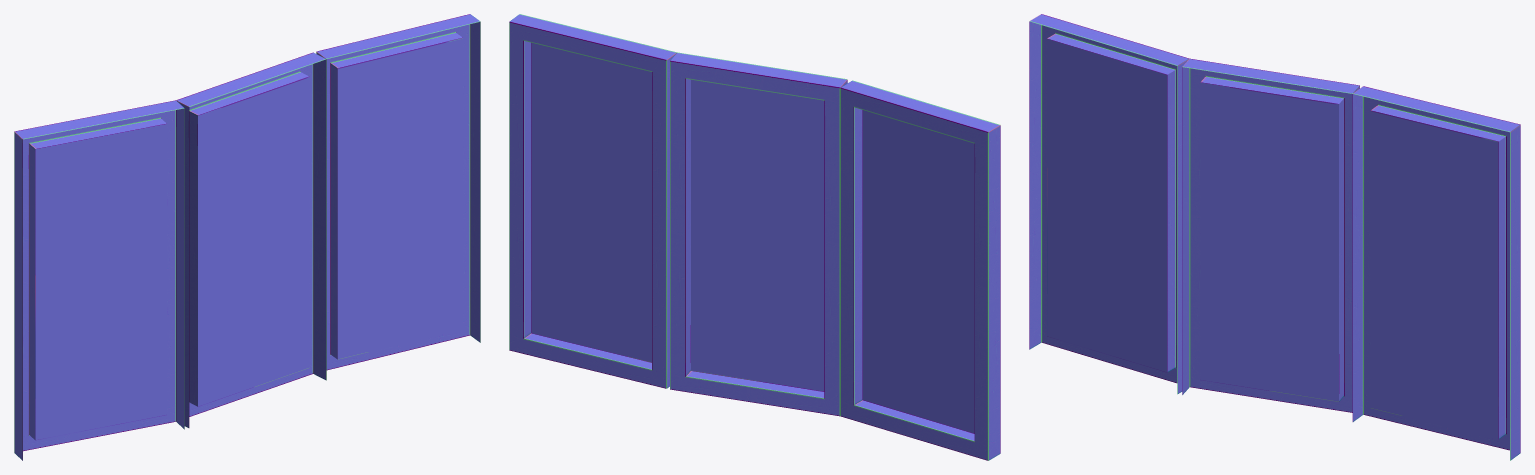
Rendered from PrintedWall.fbx.
3 renders of one model, left to right at view 1: azimuth 30°, elevation 25°; view 2: azimuth 150°, elevation 25°; view 3: azimuth 330°, elevation 25°, orthographic. The views are drawn at different scales.
Visible parts, largest first — view 1: Screen; view 2: Screen; view 3: Screen.
Boxes of the visible parts, box(x1,y1,x2,y2) form: Screen: box(14, 14, 480, 460); Screen: box(509, 14, 1000, 460); Screen: box(1029, 14, 1520, 460).
Bounding box in the file's own units: 328 × 30.96 × 217.
